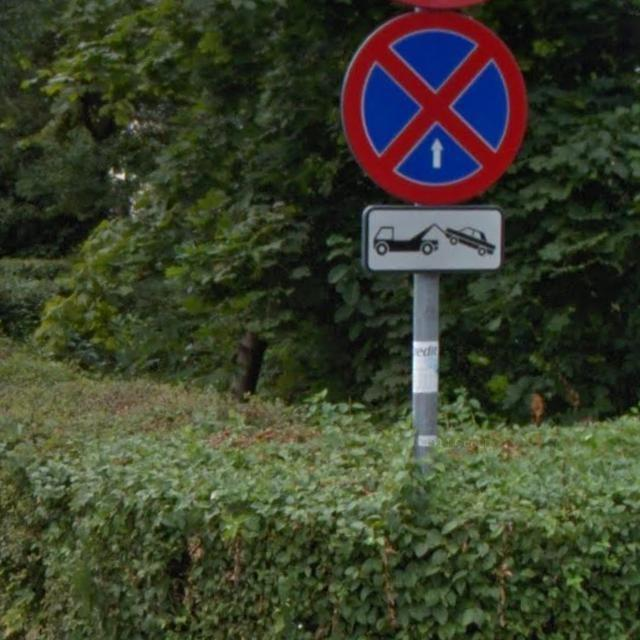forb_waiting: (344, 8, 527, 206)
